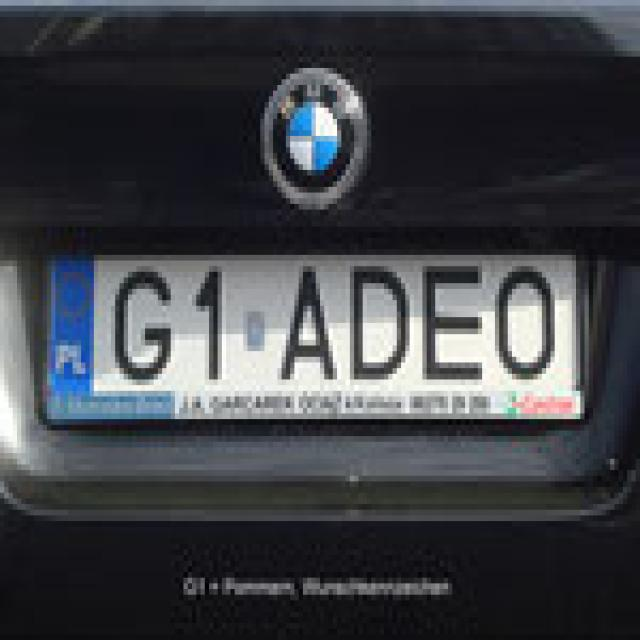pl_license_plate: (38, 249, 576, 408)
